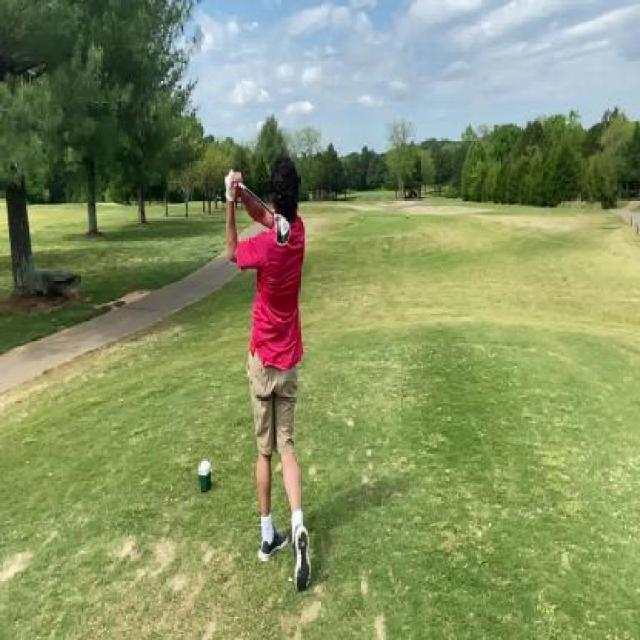club head: (270, 210, 290, 247)
